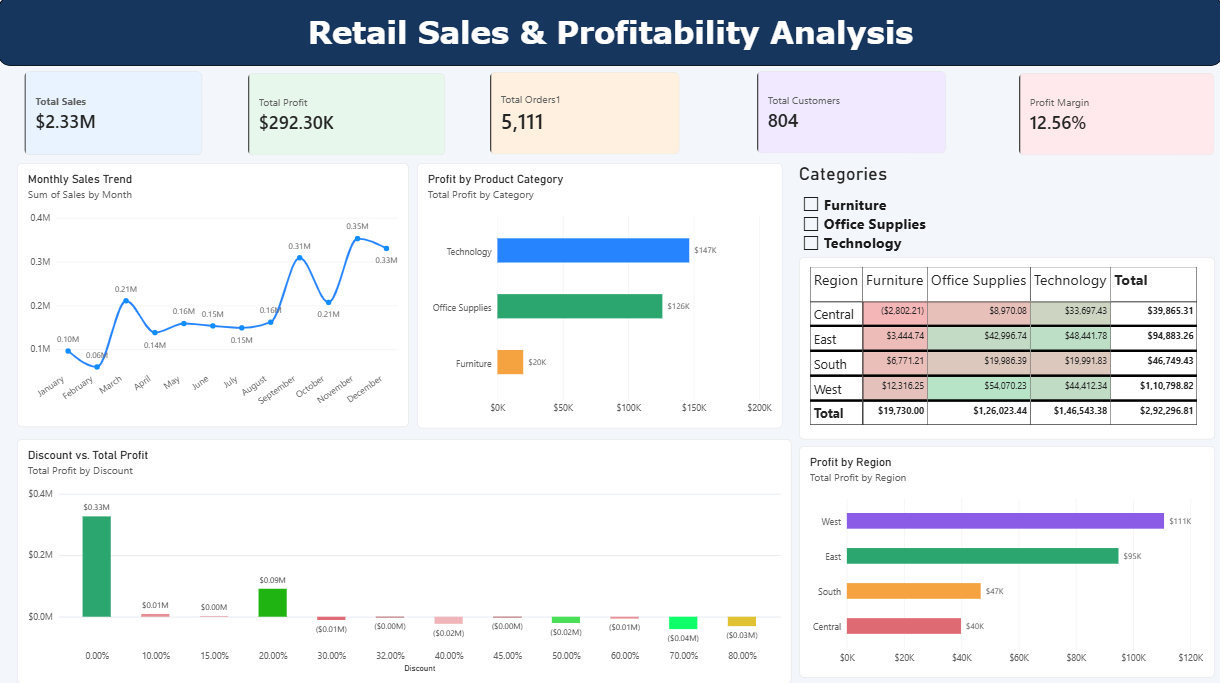

The dashboard page shown, as its layout file describes it:
{"tool":"powerbi","page":{"name":"sale&profitability","canvas":[1920,1080],"ordinal":0},"visuals":[{"type":"cardVisual","fields":{"Data":["orders_import.Total Sales"]},"box":[40.9,119.6,280.1,132.8],"z":0},{"type":"cardVisual","fields":{"Data":["orders_import.Total Profit"]},"box":[392.5,122.6,309.3,129.8],"z":1000},{"type":"cardVisual","fields":{"Data":["orders_import.Total Customers"]},"box":[1189.1,119.6,296.2,129.8],"z":2000},{"type":"cardVisual","fields":{"Data":["orders_import.Profit Margin"]},"box":[1600.5,122.6,306.4,129.8],"z":3000},{"type":"textbox","box":[150,2.5,300,150],"z":4000},{"type":"lineChart","title":"Monthly Sales Trend","fields":{"Category":["orders_import.Order Date.Variation.Date Hierarchy.Month"],"Y":["Sum(orders_import.Sales)"]},"box":[29.2,264.1,614.2,414.3],"z":5000},{"type":"cardVisual","fields":{"Data":["orders_import.Total Orders Display"]},"box":[771.8,121.1,297.6,129.8],"z":6000},{"type":"clusteredBarChart","title":"Profit by Product Category","fields":{"Category":["orders_import.Category"],"Y":["orders_import.Total Profit"]},"box":[656.5,264.1,573.4,415.8],"z":7000},{"type":"clusteredBarChart","title":"Profit by Region","fields":{"Category":["orders_import.Region"],"Y":["orders_import.Total Profit"]},"box":[1254.7,706.1,652.2,363.3],"z":8000},{"type":"clusteredColumnChart","title":"Discount vs. Total Profit","fields":{"Category":["orders_import.Discount"],"Y":["orders_import.Total Profit"]},"box":[29.2,695.9,1213.9,383.7],"z":9000},{"type":"pivotTable","fields":{"Columns":["orders_import.Category"],"Rows":["orders_import.Region"],"Values":["orders_import.Total Profit"]},"box":[1254.7,410,652.2,286],"z":10000},{"type":"slicer","title":"Categories","fields":{"Values":["orders_import.Category"]},"box":[1254.7,264.1,652.2,145.9],"z":11000},{"type":"shape","box":[0,2.9,1920,108],"z":12000}]}

Visuals, with their boxes in screenshot pixels (x1, y1, x2, y2), scaled from the page's 1920x1080 canvas onto the 1220x683 screenshot:
cardVisual - orders_import.Total Sales: locate(26, 76, 204, 160)
cardVisual - orders_import.Total Profit: locate(249, 78, 446, 160)
cardVisual - orders_import.Total Customers: locate(756, 76, 944, 158)
cardVisual - orders_import.Profit Margin: locate(1017, 78, 1212, 160)
textbox: locate(95, 2, 286, 96)
"Monthly Sales Trend" lineChart: locate(19, 167, 409, 429)
cardVisual - orders_import.Total Orders Display: locate(490, 77, 680, 159)
"Profit by Product Category" clusteredBarChart: locate(417, 167, 781, 430)
"Profit by Region" clusteredBarChart: locate(797, 447, 1212, 676)
"Discount vs. Total Profit" clusteredColumnChart: locate(19, 440, 790, 682)
pivotTable - orders_import.Category x orders_import.Region: locate(797, 259, 1212, 440)
"Categories" slicer: locate(797, 167, 1212, 259)
shape: locate(0, 2, 1219, 70)
